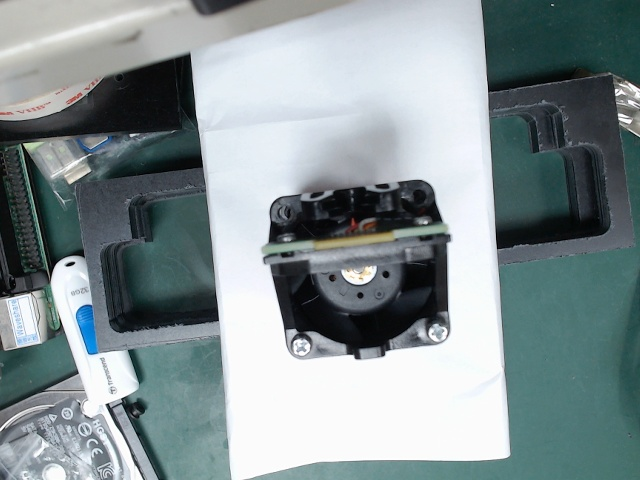Phase1_screw_loose: (418, 312, 469, 356)
Phase1_screw_missing: (256, 184, 303, 225)
